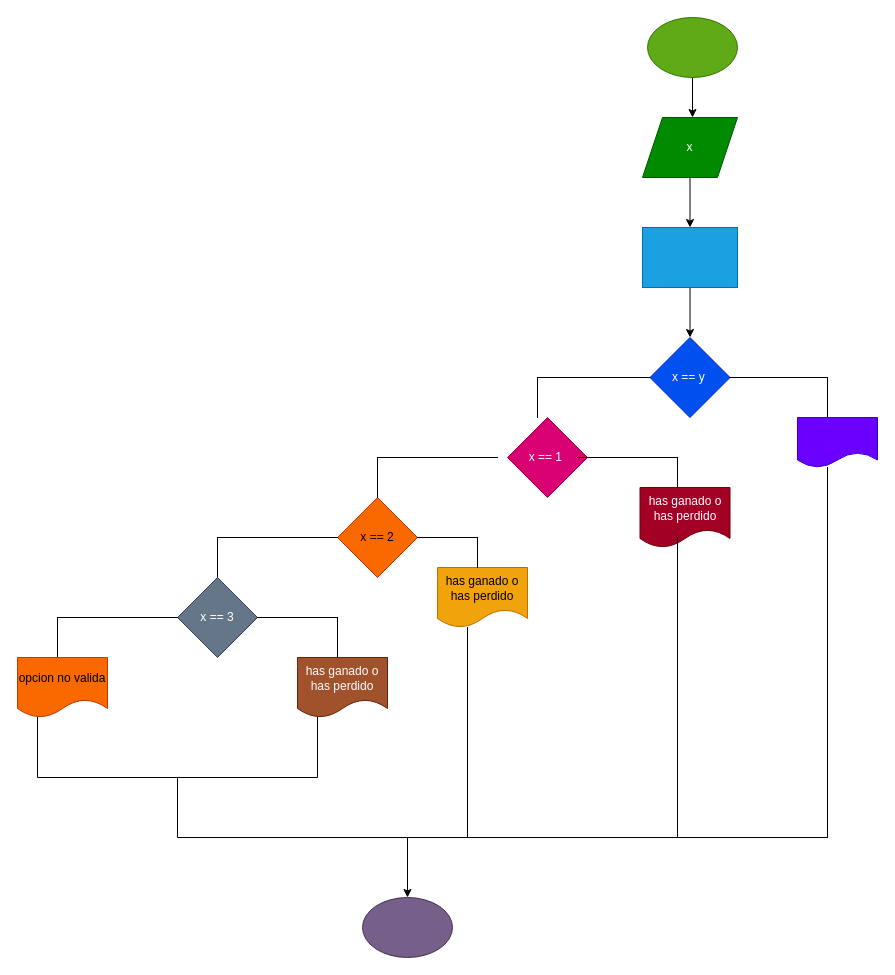
Image size: 895x975. Some labels were removed from this diagram. Here are the shapes that lost their labels. From the top down, the centre of each, then its label:
At point 692,47: "inicio".
At point 690,257: "y = randint (1-3)".
At point 837,442: "has empatado".
At point 407,927: "fin".
